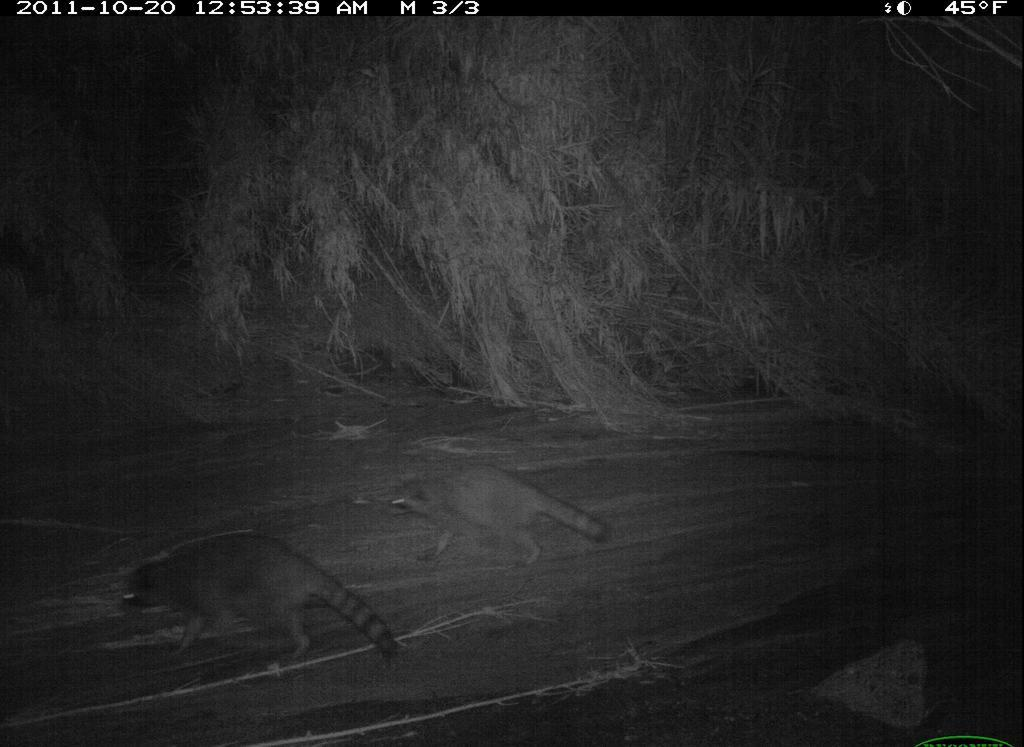raccoon: (118, 524, 402, 681), (368, 464, 609, 570)
